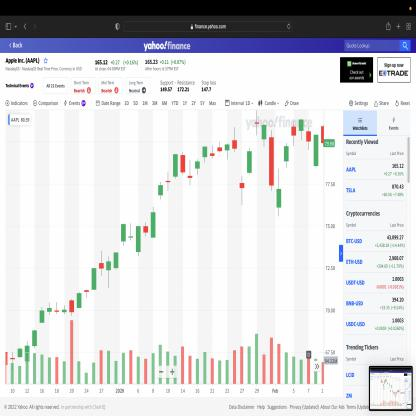Bullish Abandoned Baby: (231, 123, 253, 208)
